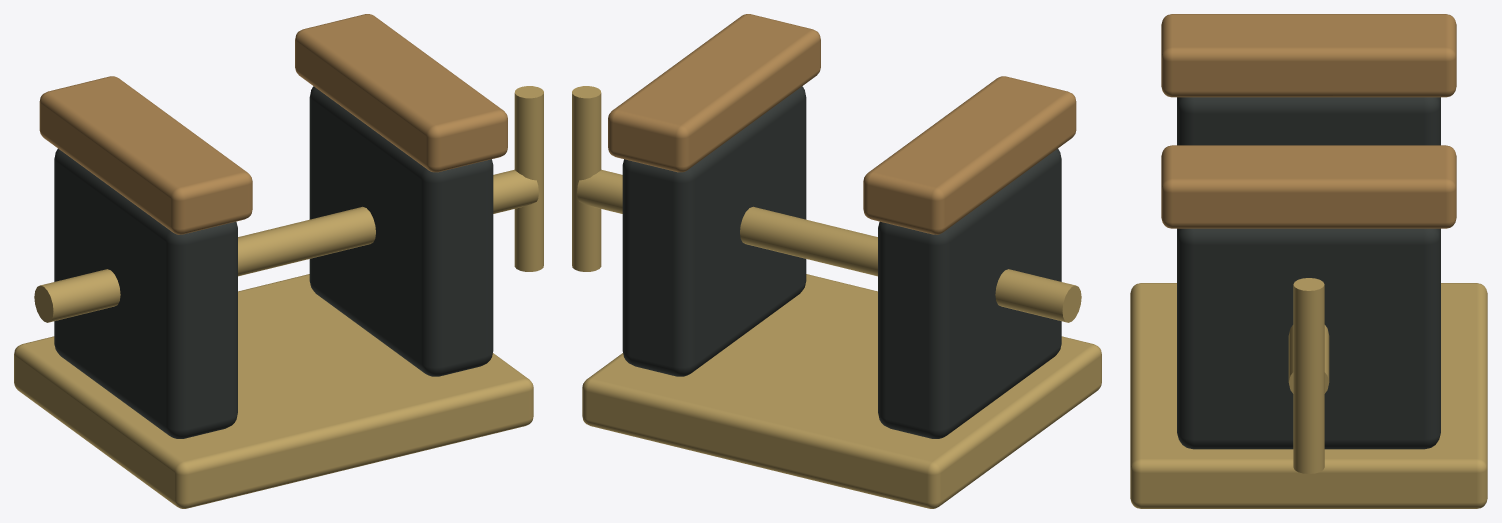
File: abandoned-puppet-theatre-and-prop-vault-carving-vise-e5b03a7e__31090.glb
3 renders of one model, left to right at view 1: azimuth 30°, elevation 25°; view 2: azimuth 150°, elevation 25°; view 3: azimuth 270°, elevation 25°, orthographic. The views are drawn at different scales.
Parts seen in each view (by area): view 1: carving-vise; view 2: carving-vise; view 3: carving-vise.
Boxes of the visible parts, x1,y1,x2,y2 form: carving-vise: (14, 14, 543, 508); carving-vise: (572, 14, 1101, 508); carving-vise: (1130, 14, 1487, 508).
Size of the model in its own units: 0.39 by 0.23 by 0.23.
